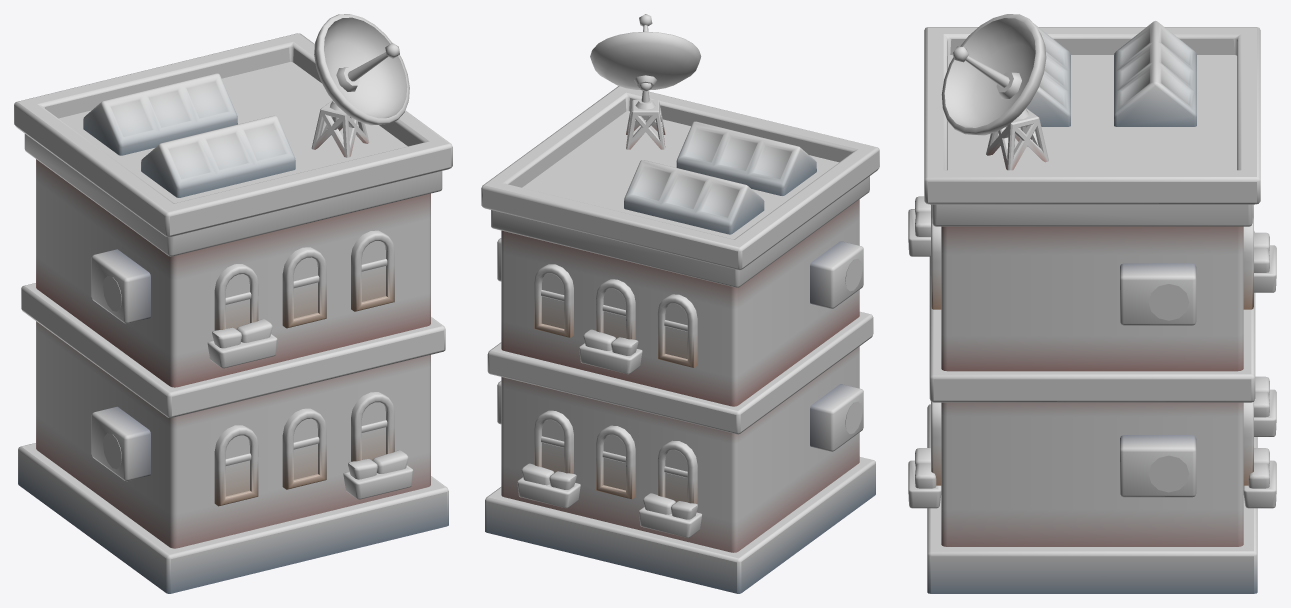
Rendered from NF_Bld_House 44.fbx.
The picture shows the model from 3 angles, left to right: view 1: azimuth 30°, elevation 25°; view 2: azimuth 150°, elevation 25°; view 3: azimuth 270°, elevation 25°; orthographic projection. The views are drawn at different scales.
Visible parts, largest first — view 1: House_44; view 2: House_44; view 3: House_44.
Boxes of the visible parts, box(x1,y1,x2,y2) form: House_44: box(14, 14, 452, 593); House_44: box(481, 14, 879, 593); House_44: box(908, 14, 1276, 593).
Bounding box in the file's own units: 7.8 × 11.73 × 7.3.
